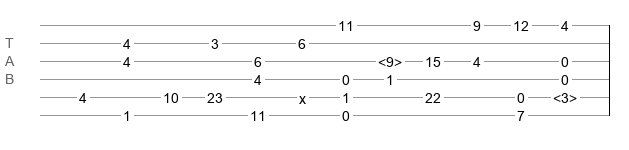0: (342, 108, 350, 118), (342, 72, 350, 82), (517, 90, 525, 100), (561, 54, 569, 64), (561, 72, 569, 82)
1: (123, 108, 131, 118), (342, 90, 350, 100), (386, 72, 394, 82)
10: (163, 90, 179, 100)
11: (250, 108, 266, 118), (338, 18, 354, 28)
12: (513, 18, 529, 28)
15: (425, 54, 441, 64)
22: (425, 90, 441, 100)
23: (207, 90, 223, 100)
3: (211, 36, 219, 46)
4: (79, 90, 87, 100), (123, 54, 131, 64), (123, 36, 131, 46), (254, 72, 262, 82), (473, 54, 481, 64), (561, 18, 569, 28)
6: (254, 54, 262, 64), (298, 36, 306, 46)
7: (517, 108, 525, 118)
9: (473, 18, 481, 28)
harmonic: (378, 54, 402, 64), (553, 90, 577, 100)
x: (299, 91, 306, 99)
